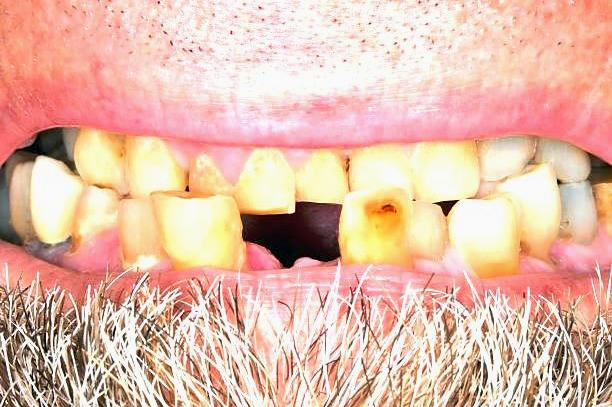Calculus: (152, 187, 244, 286), (450, 191, 532, 277), (342, 189, 416, 261), (118, 138, 195, 201), (69, 133, 139, 196), (107, 203, 162, 273)
Caries: (26, 222, 89, 263)
Hypodontia: (233, 205, 343, 291)
